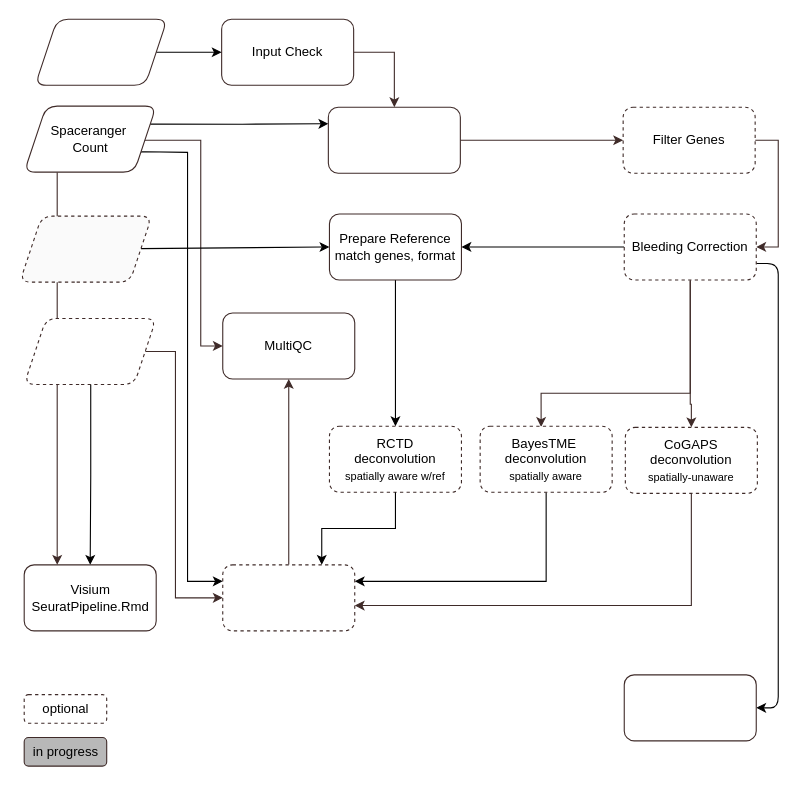
This 806x785 diagram has some shape labels left out. Each missing label, with the box of its shape:
CODA csv files: (23, 317, 156, 384)
Load Spaceranger: (327, 106, 460, 173)
Samplesheet: (34, 18, 167, 85)
scRNA ref atlas / matched: (19, 215, 152, 282)
Spacemarkers: (222, 564, 355, 631)
Spatially Variable Genes: (623, 674, 756, 741)
